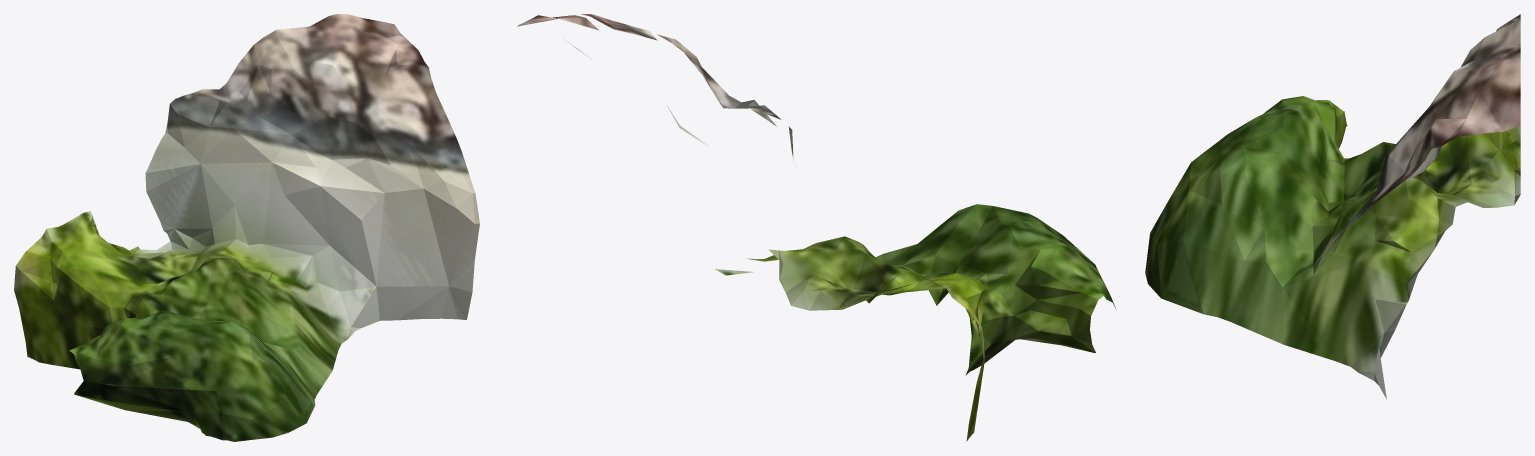
3 views of the same model, side by side, from view 1: azimuth 30°, elevation 25°; view 2: azimuth 150°, elevation 25°; view 3: azimuth 270°, elevation 25° (orthographic). The views are drawn at different scales.
Bounding box in the file's own units: 1.67 × 1.07 × 1.05.
2 materials, 2 textured.
